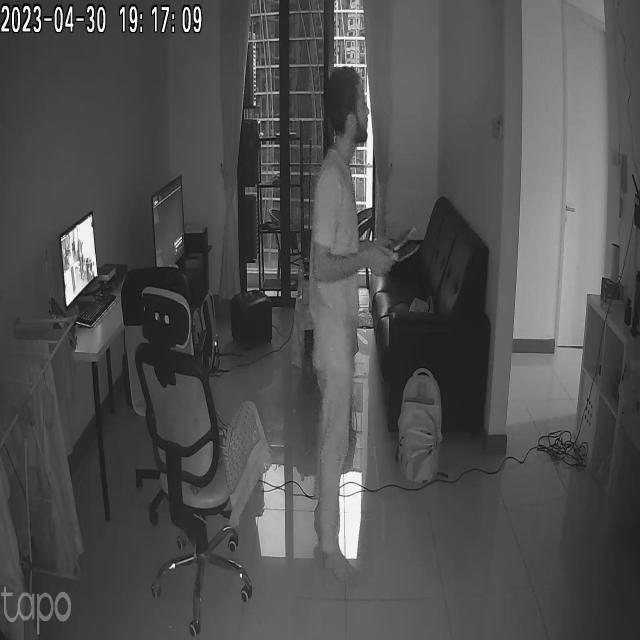Knife: (383, 211, 422, 273)
